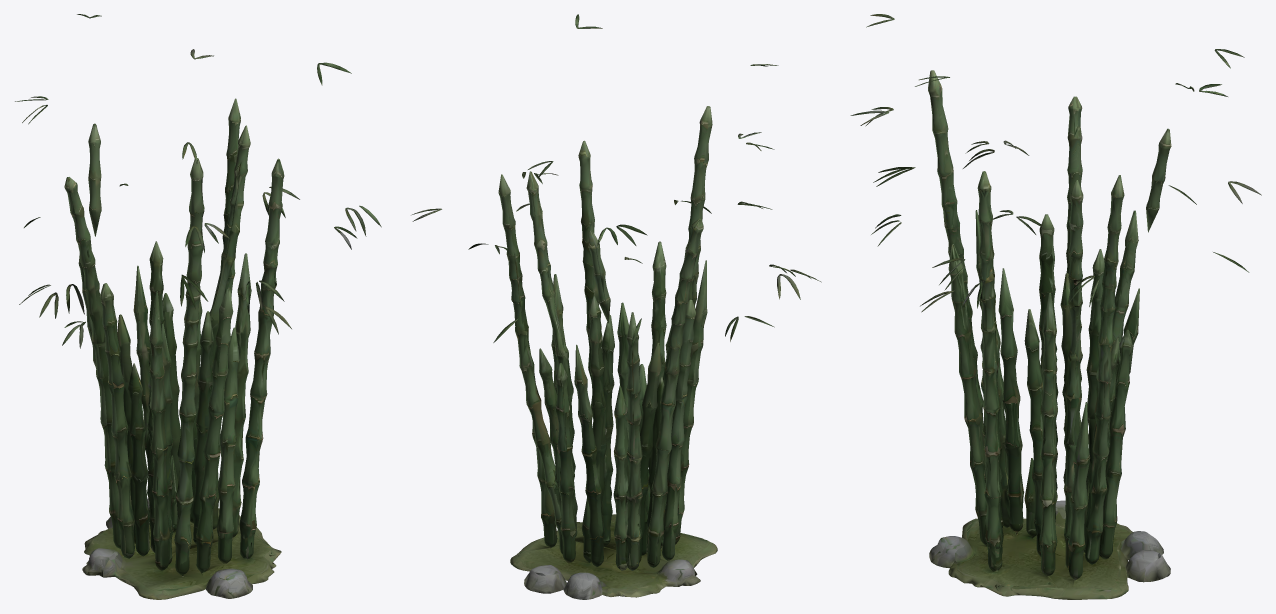
Rendered from bambooA-compressed.glb.
The picture shows the model from 3 angles, left to right: view 1: azimuth 30°, elevation 25°; view 2: azimuth 150°, elevation 25°; view 3: azimuth 270°, elevation 25°; orthographic projection. The views are drawn at different scales.
Visible parts, largest first — view 1: node_0; view 2: node_0; view 3: node_0.
Boxes of the visible parts, x1,y1,x2,y2 form: node_0: [15, 14, 381, 599]; node_0: [411, 14, 821, 599]; node_0: [850, 14, 1261, 599].
Size of the model in its own units: 2.04 by 3 by 2.12.
Materials: 1 (1 with a texture image).
